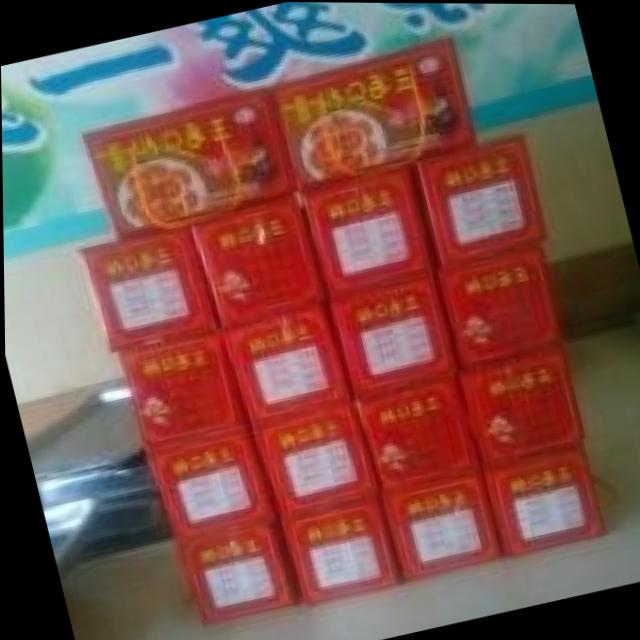box: (270, 35, 480, 197), (83, 84, 296, 241), (299, 164, 438, 303), (413, 133, 547, 273), (191, 196, 327, 331), (77, 228, 219, 353), (329, 270, 457, 402), (220, 302, 354, 427), (115, 331, 248, 451), (434, 246, 561, 371), (249, 402, 382, 521), (459, 347, 583, 472), (354, 378, 481, 493), (147, 429, 275, 542), (380, 471, 502, 583), (277, 495, 401, 603), (483, 446, 602, 558), (172, 523, 299, 624)
